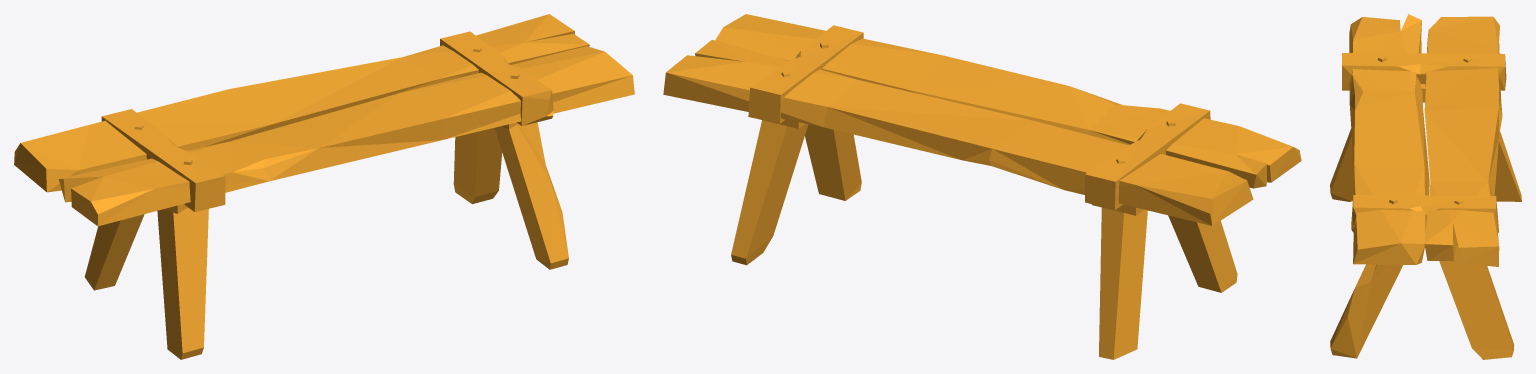
The model's file is SM_Bench_Simple_A_Fantasy.fbx.
3 views of the same model, side by side, from view 1: azimuth 30°, elevation 25°; view 2: azimuth 150°, elevation 25°; view 3: azimuth 270°, elevation 25° (orthographic). The views are drawn at different scales.
Parts seen in each view (by area): view 1: bench-simple-a-fantasy; view 2: bench-simple-a-fantasy; view 3: bench-simple-a-fantasy.
Part boxes in pixels (left/top/right/bottom): bench-simple-a-fantasy: left=14, top=14, right=634, bottom=359; bench-simple-a-fantasy: left=663, top=14, right=1301, bottom=359; bench-simple-a-fantasy: left=1330, top=14, right=1521, bottom=359.
Size of the model in its own units: 1.74 by 0.5179 by 0.6075.
